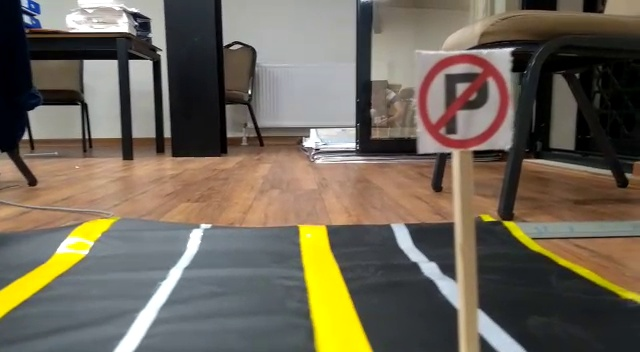park_yapilmaz: (413, 50, 512, 151)
